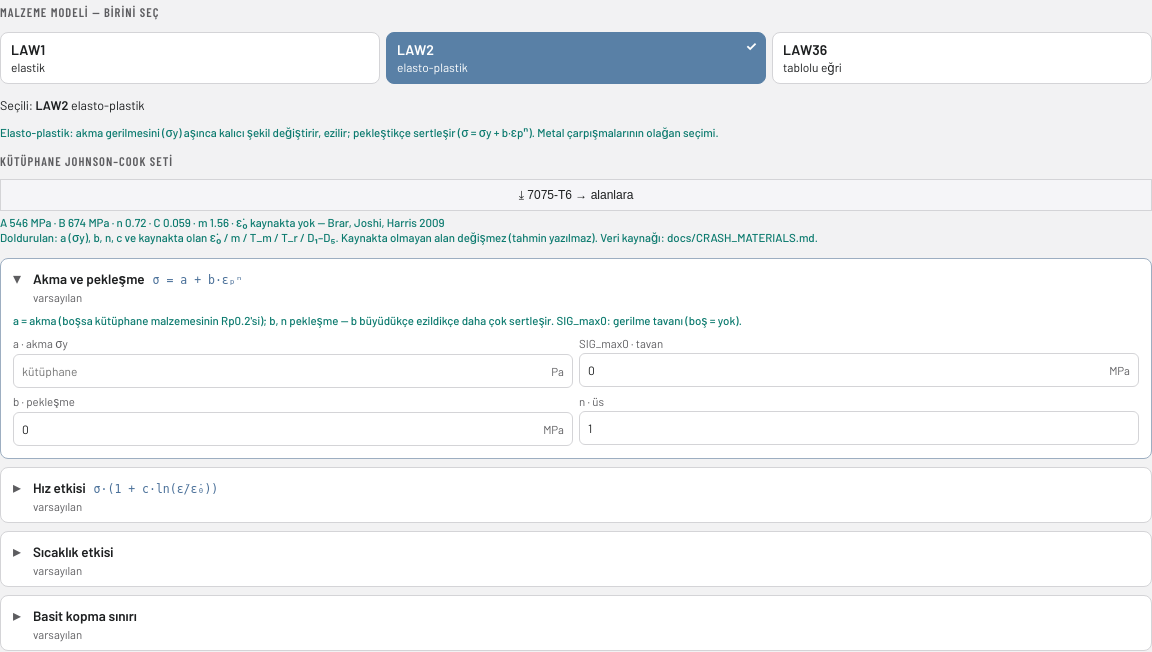
1.24g — kütüphane JC seti + σ–εₚ önizleme › LAW2 kartında kaynaklı düğme alanları doldurur; payload deck birimleriyle
Expected: the element with test id "crash-jc-lib" shows "A 546 MPa · B 674 MPa · n 0.72 · C 0.059 · m 1.56 · ε̇₀ kaynakta yok", [0, 146, 1151, 246]
Expected: the element with test id "crash-jc-lib" shows "Brar, Joshi, Harris 2009", [328, 215, 444, 229]
Click the button with aria-label "7075-T6 Johnson–Cook setini alanlara doldur". click: coordinates (576, 195)
box: [0, 179, 1151, 211]
(page scrolled)
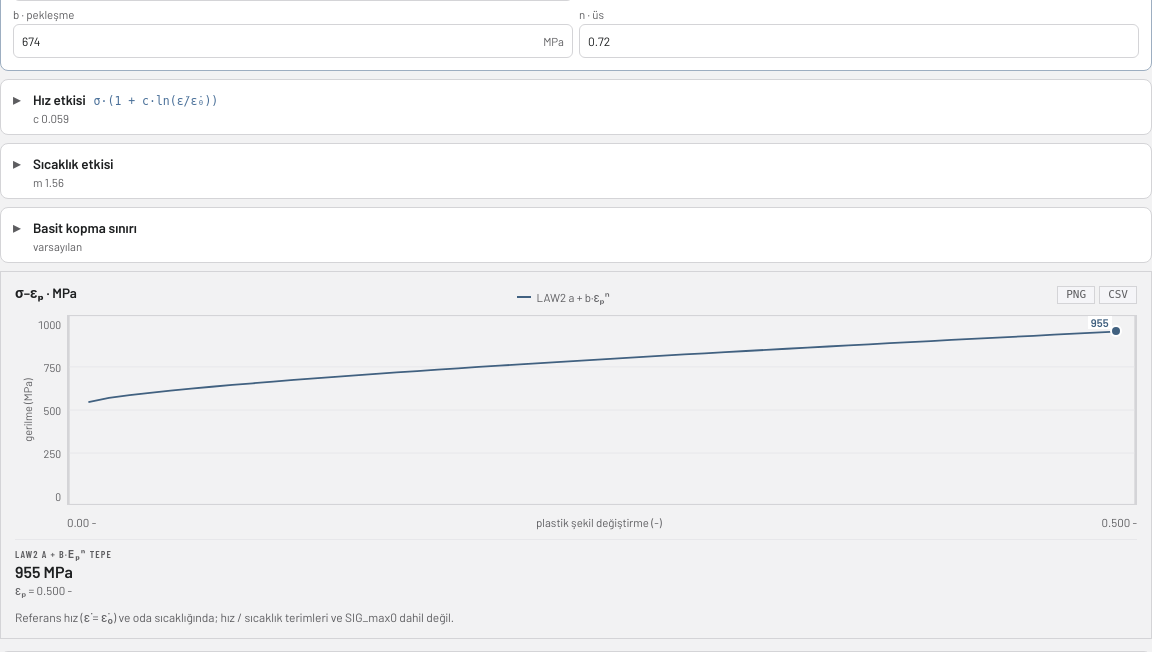
Expected: the picture named "Gerilme–plastik şekil değiştirme grafiği" is shown, [67, 315, 1137, 505]
